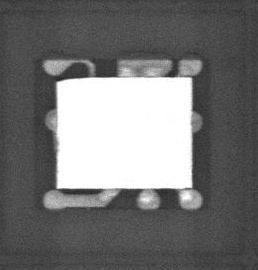DIE_BROKEN: (56, 75, 71, 83)
